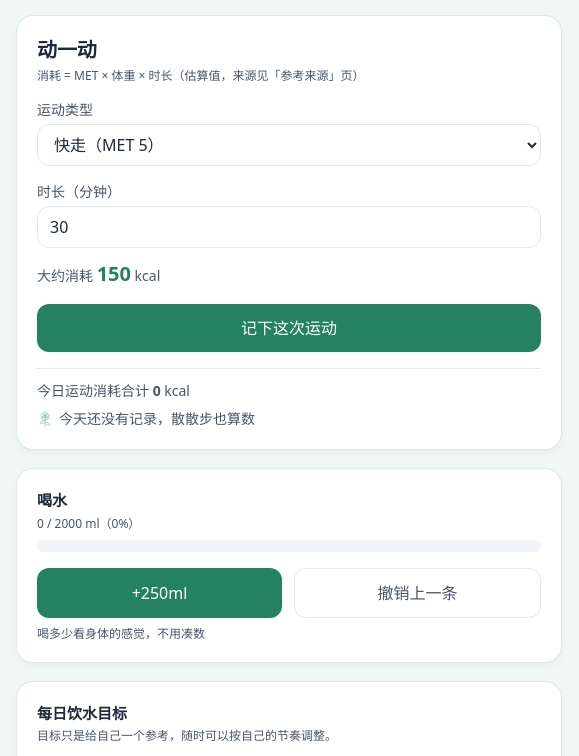
Test: 饮水快捷记录 · 错误分流（项 4） › 业务错误（500）→ 给中性提示（不是静默）
This screenshot has width=579, height=756.
Click the button "+250ml" at (160, 592), box [37, 568, 282, 618]
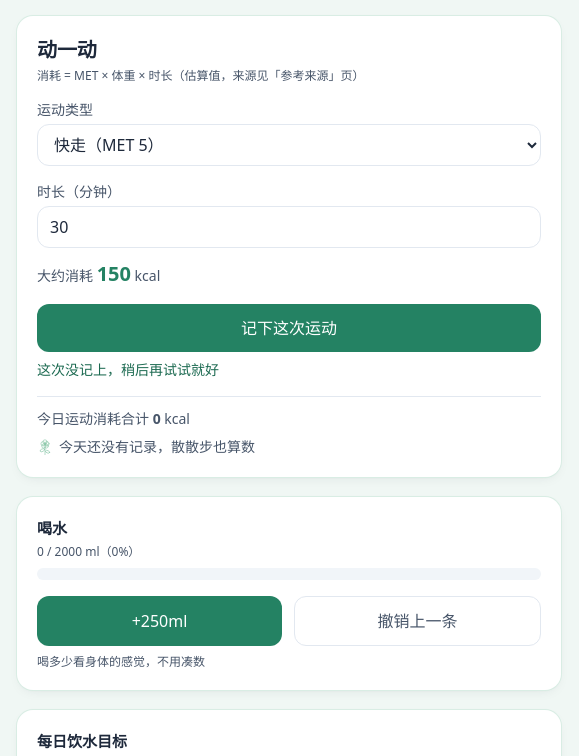
Expected: the text "这次没记上，稍后再试试就好" is shown, [37, 360, 219, 379]
